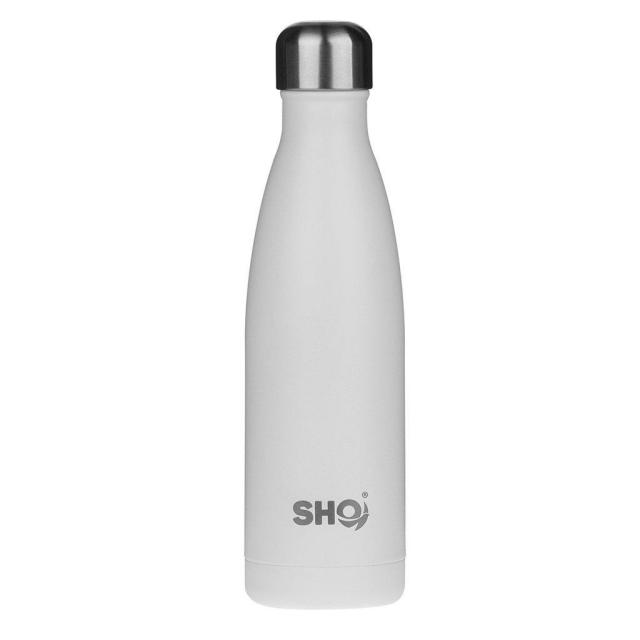plastic_bottle: (235, 12, 436, 619)
